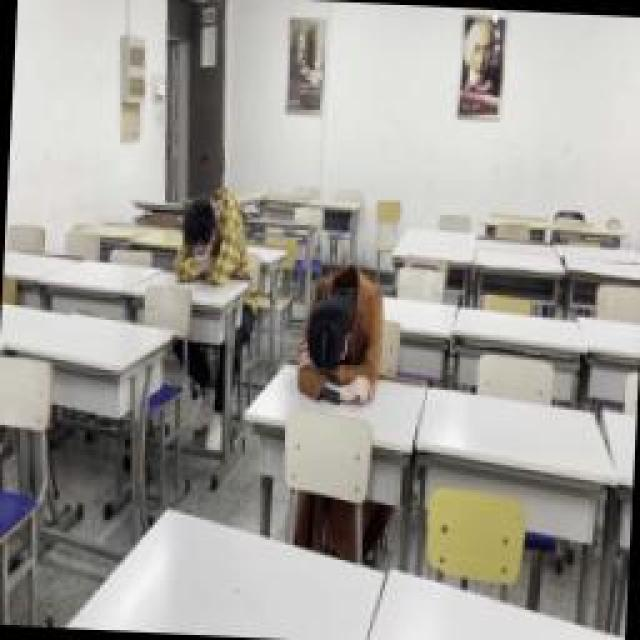sleep: (293, 262, 385, 400), (170, 185, 252, 287)
